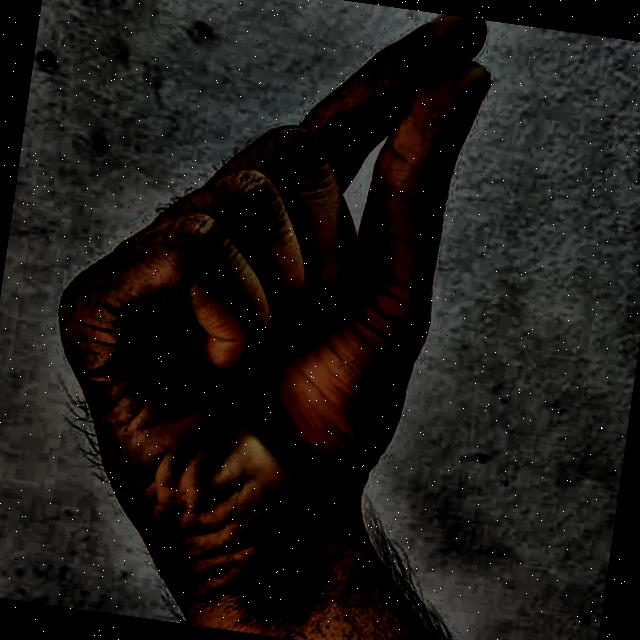Anusshar: (0, 0, 525, 634)
